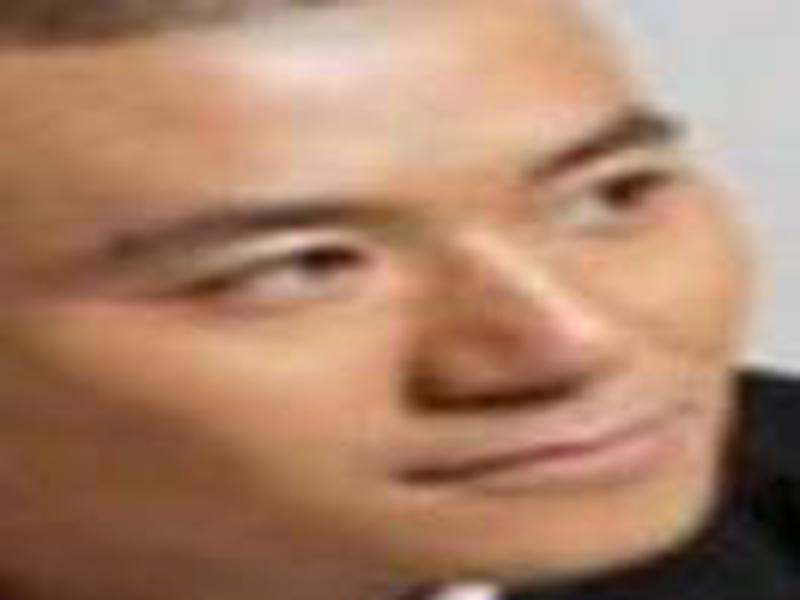without_mask: (4, 46, 755, 584)
